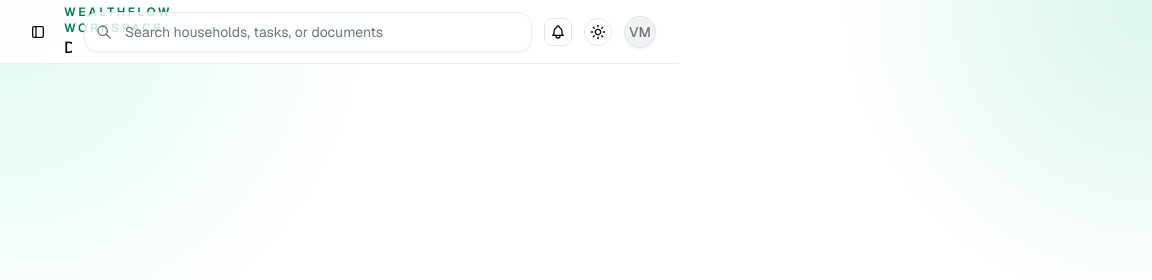
AppHeader › opens the theme menu when the user interacts with the toggle
This screenshot has width=1152, height=280.
Click the button named "Toggle theme".
click(598, 32)  # box [584, 18, 612, 46]
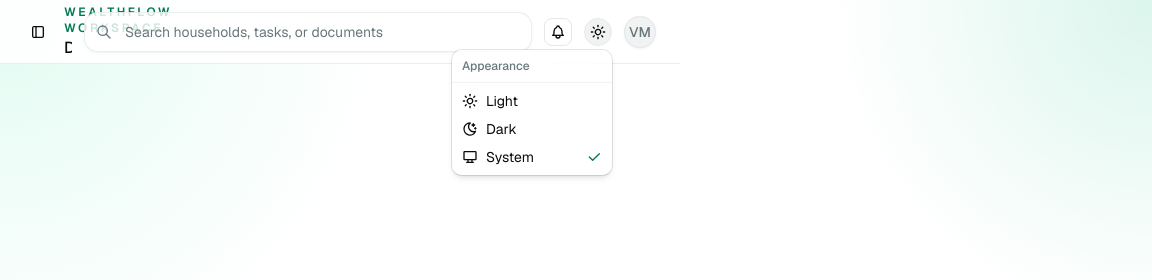
Check: the text "Appearance" is shown, box [462, 58, 530, 74]
Check: the menu item "Dark" is shown, box [462, 120, 517, 138]
Check: the menu item "System" is shown, box [456, 143, 608, 171]
